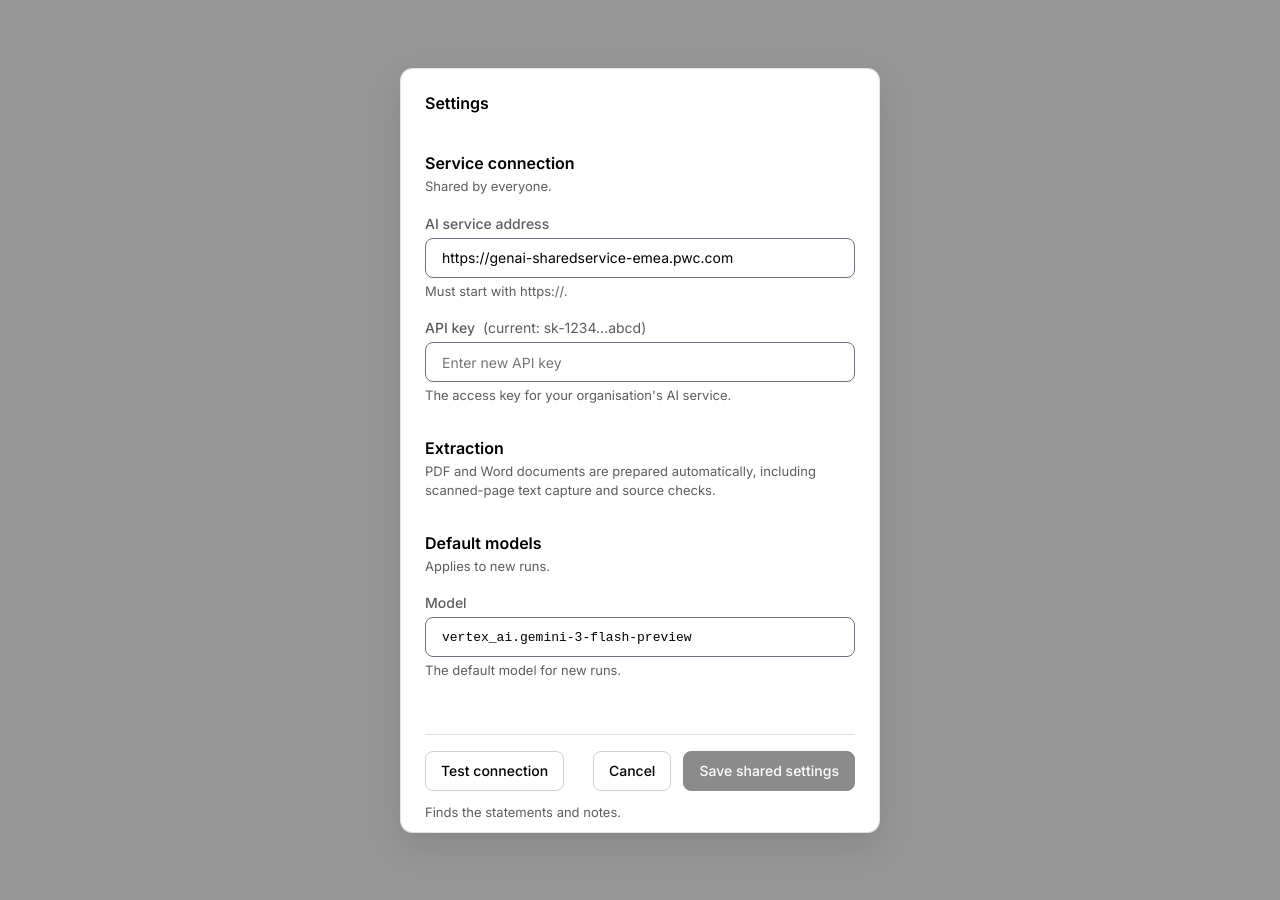
Test: SettingsModal — P3 enhancements › validates proxy URL starts with https:// on blur
Type "http://bad-url.com" into the field showing "https://genai-sharedservice-emea.pwc.com".
click(640, 258); type("http://bad-url.com")  # box [425, 238, 855, 278]
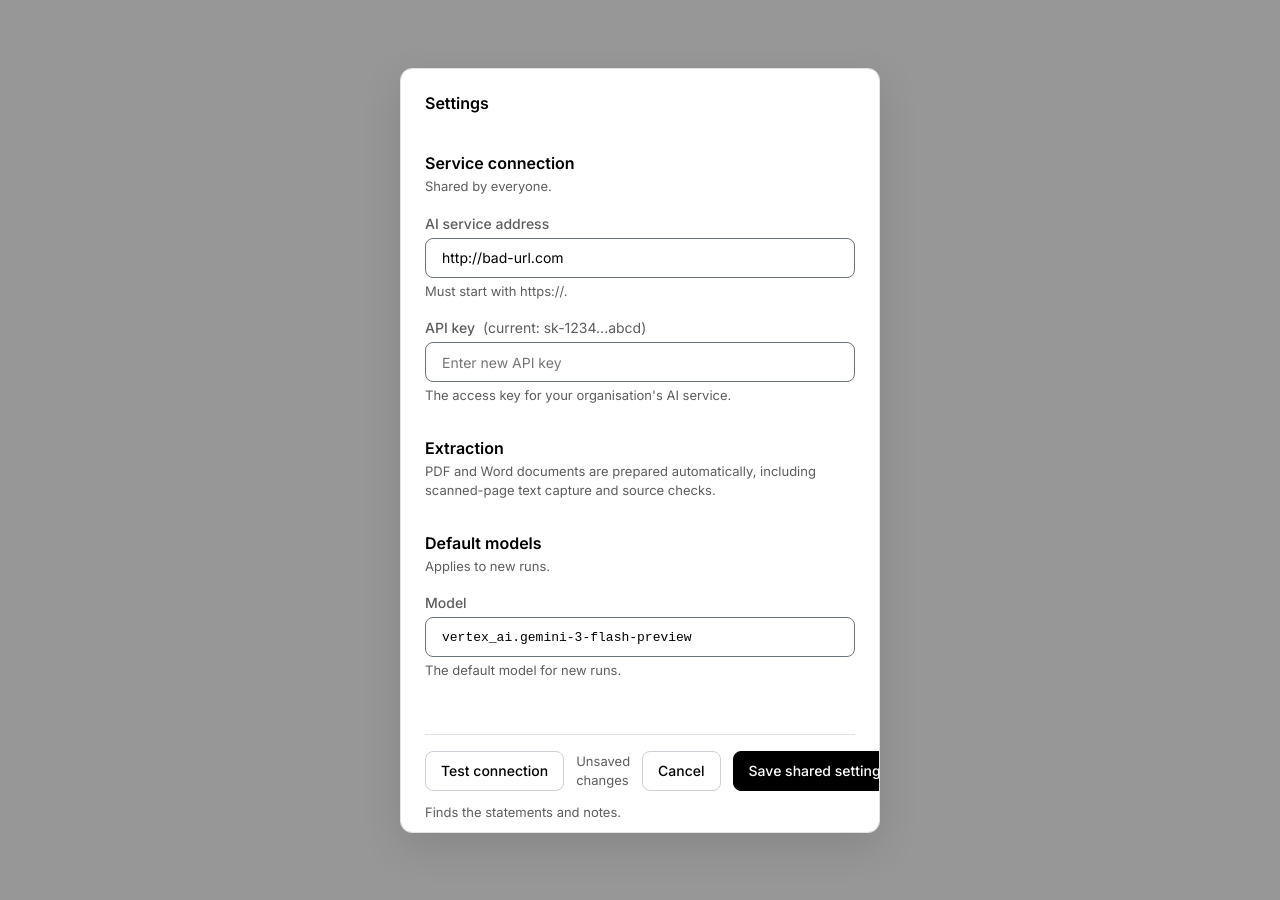
Leave the field showing "https://genai-sharedservice-emea.pwc.com", box [425, 238, 855, 278]
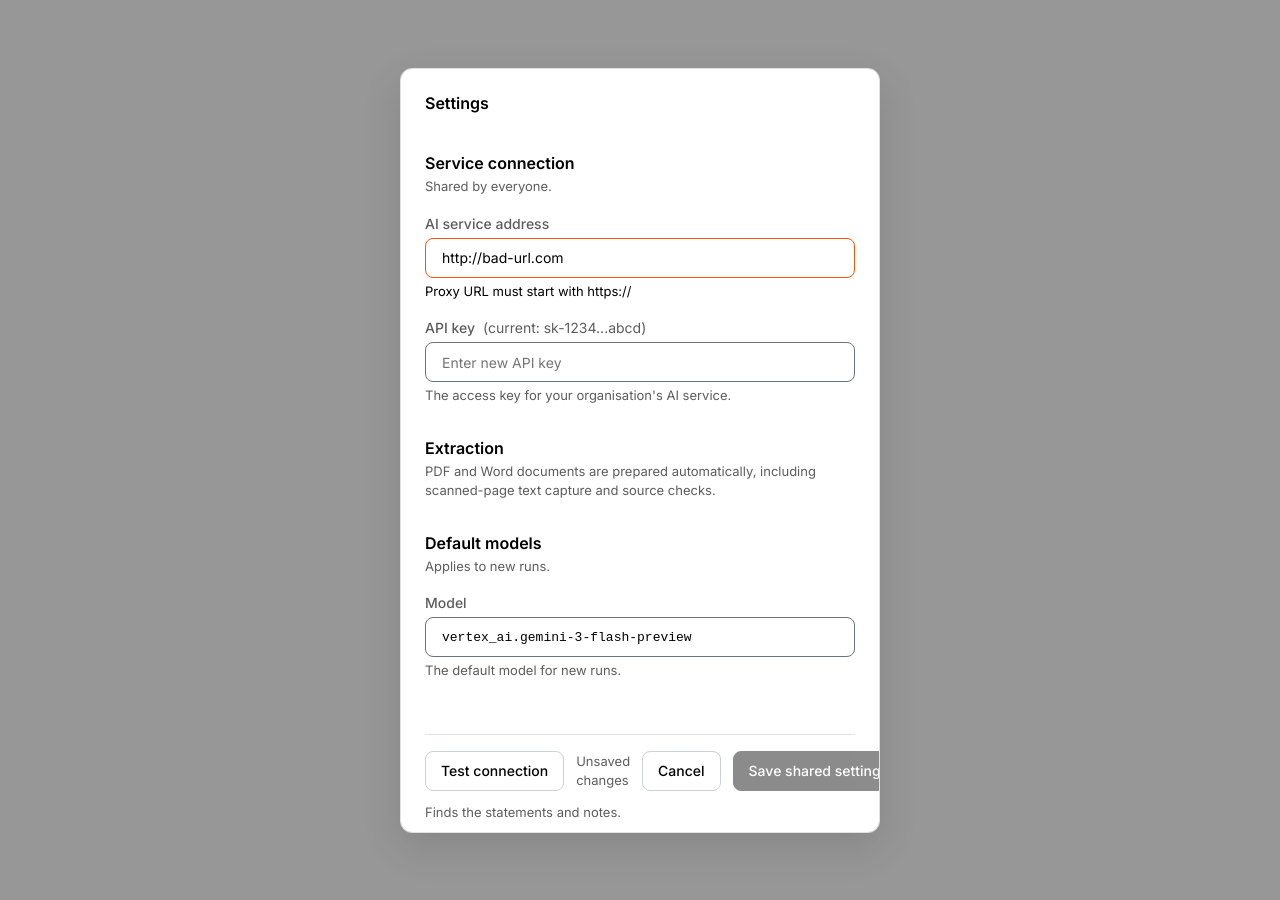
Check: the text "Proxy URL must start with https://" is shown, box [425, 283, 631, 299]
